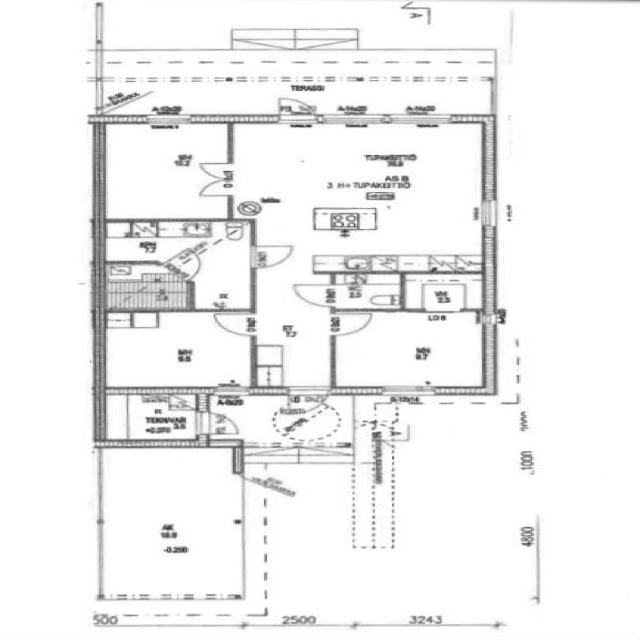door: (282, 383, 336, 418), (192, 161, 238, 200), (238, 440, 302, 466), (207, 309, 261, 339), (192, 410, 246, 440), (327, 309, 379, 339), (290, 280, 340, 310), (249, 242, 298, 270), (208, 378, 254, 400)
window: (331, 112, 439, 130), (369, 382, 449, 402), (470, 198, 500, 228)
zone: (241, 125, 488, 272), (95, 445, 248, 603), (98, 217, 252, 310), (97, 121, 234, 222), (334, 312, 494, 390), (100, 309, 253, 390), (97, 387, 205, 447), (402, 272, 491, 313), (329, 272, 405, 312)
